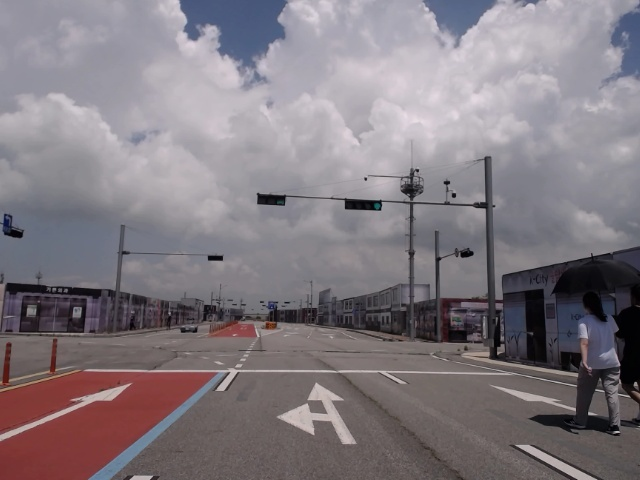straight_green_4: (344, 199, 383, 211)
